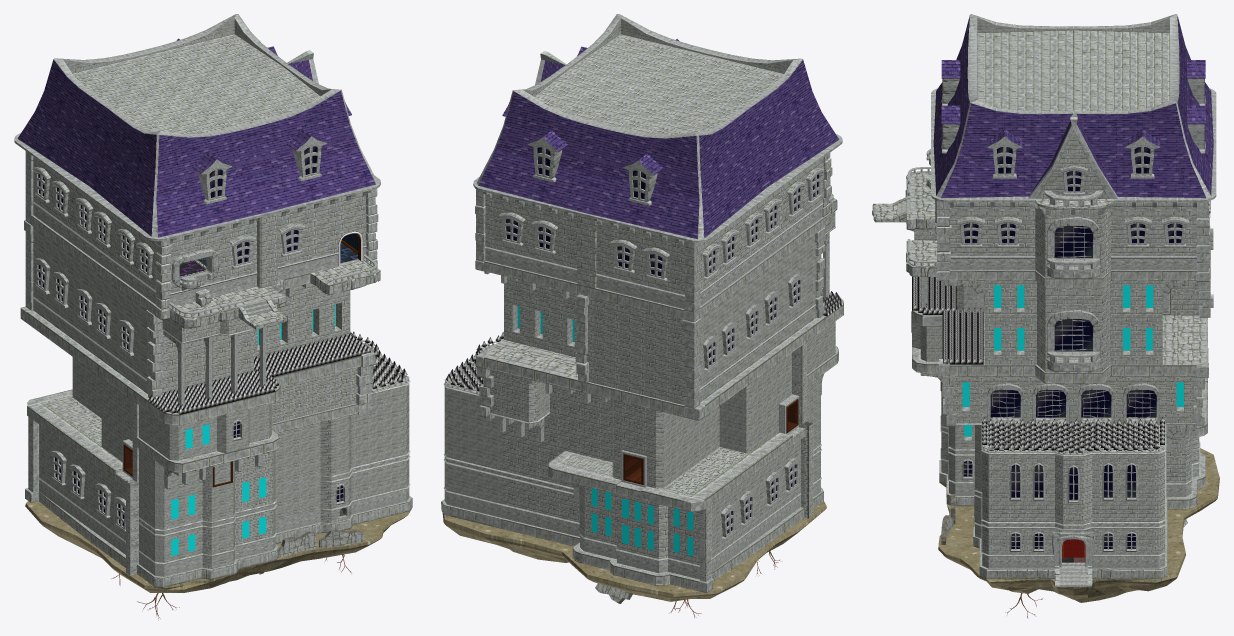
The model's file is Mansion Planet.fbx.
The picture shows the model from 3 angles, left to right: view 1: azimuth 30°, elevation 25°; view 2: azimuth 150°, elevation 25°; view 3: azimuth 270°, elevation 25°; orthographic projection.
Visible parts, largest first — view 1: Mansion:stone5, Top:Top:roof, Top:Top:stone5, Mansion:stone2, Top:Top:stone2, Mansion:stone1, Mansion:stone6, Top:Top:stone6, Mansion:env1, Mansion:dirt, Top:Top:stone4, Top:Top:stone1 (+4 smaller); view 2: Mansion:stone5, Top:Top:roof, Top:Top:stone5, Mansion:stone2, Top:Top:stone2, Top:Top:stone6, Mansion:stone1, Mansion:stone6, Mansion:dirt, Mansion:stone4, Top:Top:stone1, Mansion:winout (+3 smaller); view 3: Mansion:stone5, Top:Top:stone5, Top:Top:roof, Top:Top:stone2, Mansion:stone2, Mansion:stone1, Mansion:env1, Top:Top:stone6, Mansion:dirt, Mansion:outglass, Mansion:stone6, Mansion:stone4 (+4 smaller).
Boxes of the visible parts, x1=… form: Mansion:stone5: x1=33, y1=227, x2=409, y2=568; Top:Top:roof: x1=17, y1=38, x2=375, y2=237; Top:Top:stone5: x1=33, y1=18, x2=366, y2=316; Mansion:stone2: x1=20, y1=220, x2=412, y2=587; Top:Top:stone2: x1=14, y1=14, x2=380, y2=319; Mansion:stone1: x1=38, y1=341, x2=410, y2=576; Mansion:stone6: x1=34, y1=258, x2=309, y2=532; Top:Top:stone6: x1=33, y1=136, x2=326, y2=287; Mansion:env1: x1=148, y1=331, x2=407, y2=414; Mansion:dirt: x1=25, y1=492, x2=411, y2=592; Top:Top:stone4: x1=169, y1=260, x2=380, y2=329; Top:Top:stone1: x1=33, y1=203, x2=366, y2=306; Mansion:stone5: x1=444, y1=211, x2=835, y2=565; Top:Top:roof: x1=478, y1=38, x2=838, y2=239; Top:Top:stone5: x1=485, y1=18, x2=823, y2=294; Mansion:stone2: x1=441, y1=226, x2=843, y2=593; Top:Top:stone2: x1=473, y1=14, x2=842, y2=322; Top:Top:stone6: x1=499, y1=137, x2=824, y2=281; Mansion:stone1: x1=443, y1=343, x2=821, y2=579; Mansion:stone6: x1=484, y1=232, x2=829, y2=540; Mansion:dirt: x1=442, y1=501, x2=826, y2=601; Mansion:stone4: x1=448, y1=340, x2=750, y2=602; Top:Top:stone1: x1=485, y1=205, x2=822, y2=308; Mansion:winout: x1=517, y1=306, x2=693, y2=556; Mansion:stone5: x1=912, y1=229, x2=1202, y2=554; Top:Top:stone5: x1=897, y1=17, x2=1196, y2=278; Top:Top:roof: x1=933, y1=15, x2=1213, y2=198; Top:Top:stone2: x1=906, y1=14, x2=1216, y2=287; Mansion:stone2: x1=910, y1=228, x2=1213, y2=586; Mansion:stone1: x1=911, y1=311, x2=1200, y2=568; Mansion:env1: x1=912, y1=276, x2=1164, y2=452; Top:Top:stone6: x1=941, y1=78, x2=1210, y2=266; Mansion:dirt: x1=938, y1=448, x2=1219, y2=602; Mansion:outglass: x1=963, y1=319, x2=1156, y2=548; Mansion:stone6: x1=920, y1=276, x2=1201, y2=587; Mansion:stone4: x1=946, y1=312, x2=1205, y2=541.
Bounding box in the file's own units: 7638 × 12108 × 7504.
Materials: 52 (45 with a texture image).
